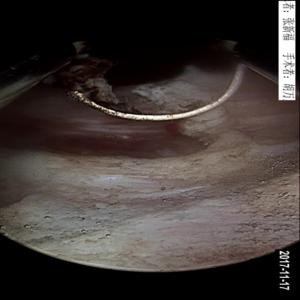film: (15, 92, 291, 149)
